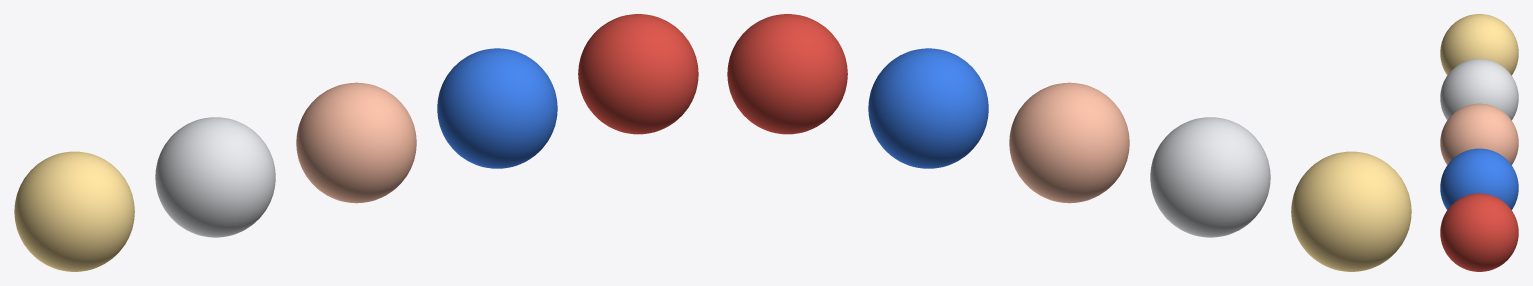
File: reflect.glb
3 renders of one model, left to right at view 1: azimuth 30°, elevation 25°; view 2: azimuth 150°, elevation 25°; view 3: azimuth 270°, elevation 25°, orthographic. The views are drawn at different scales.
Visible parts, largest first — view 1: steel, plastic, gold, rubber, copper; view 2: steel, plastic, gold, rubber, copper; view 3: rubber, plastic, steel, copper, gold.
Part boxes in pixels (x1,y1,x2,y2): steel: (155, 117, 275, 237); plastic: (437, 48, 557, 168); gold: (14, 151, 134, 271); rubber: (578, 14, 698, 134); copper: (296, 82, 416, 203); steel: (1150, 117, 1270, 237); plastic: (868, 48, 988, 168); gold: (1291, 151, 1411, 271); rubber: (727, 14, 847, 134); copper: (1009, 82, 1129, 203); rubber: (1440, 193, 1518, 271); plastic: (1440, 148, 1518, 209); steel: (1440, 59, 1518, 120); copper: (1440, 103, 1518, 165); gold: (1440, 14, 1518, 75).
Size of what is drawn, in the model's own units: 6.4 by 1 by 1.
